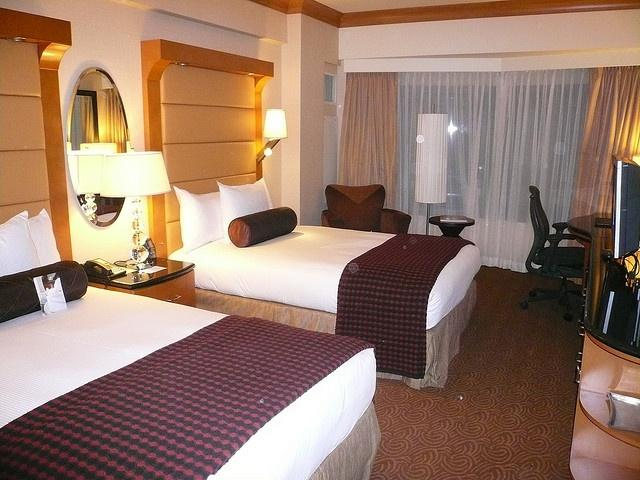Kursi: (518, 184, 585, 319)
